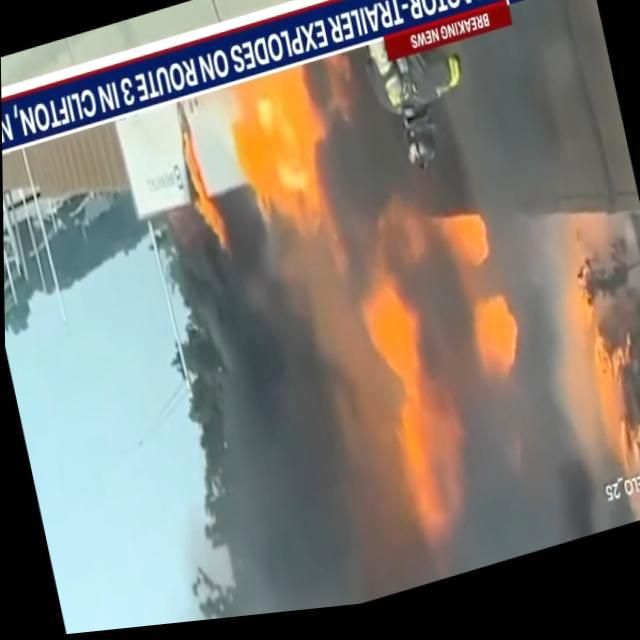fire: (342, 266, 478, 546), (227, 75, 346, 278), (539, 257, 640, 496), (426, 211, 504, 293), (456, 300, 524, 392)
